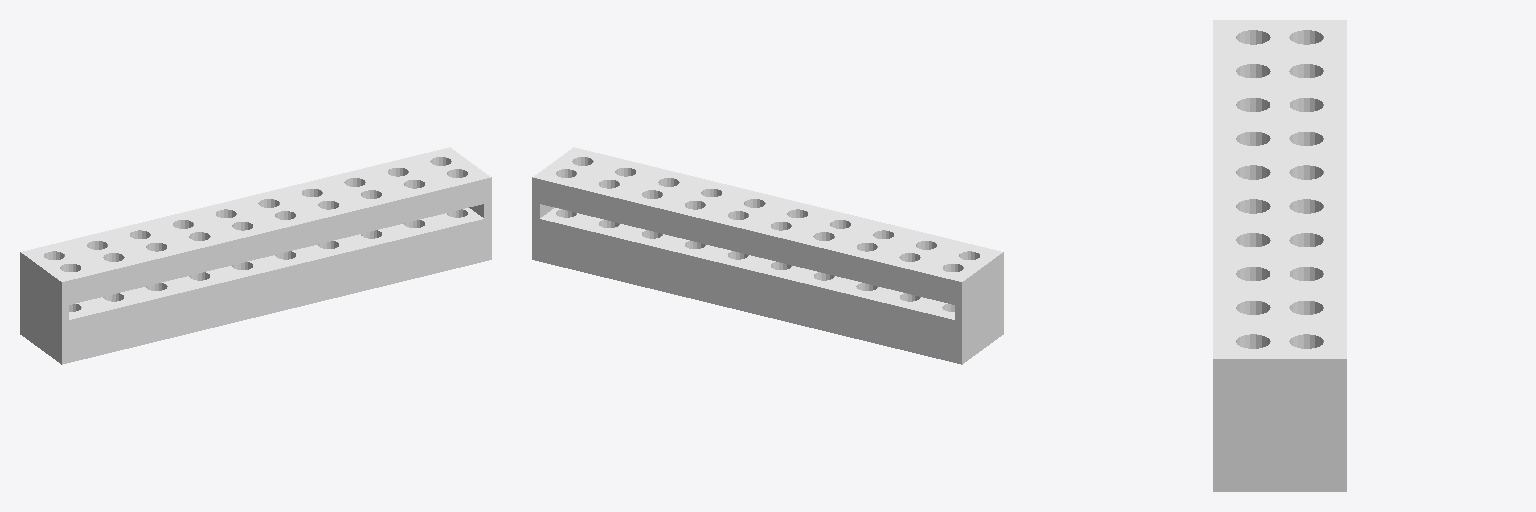
URDF robot description (Jiazi_urdf):
<?xml version="1.0" encoding="utf-8"?>

<robot
  name="Jiazi_urdf">
  <link
    name="base_link">
    <inertial>
      <origin
        xyz="-7.80625564189563E-18 0 0.0252583843509668"
        rpy="0 0 0" />
      <mass
        value="0.587087397270082" />
      <inertia
        ixx="0.000307919478763126"
        ixy="3.37593087498204E-20"
        ixz="4.83879572590194E-20"
        iyy="0.00465695966376648"
        iyz="-2.29493682128789E-20"
        izz="0.00461182821905803" />
    </inertial>
    <visual>
      <origin
        xyz="0 0 0"
        rpy="0 0 0" />
      <geometry>
        <mesh
          filename="package://Jiazi_urdf/meshes/base_link.STL" />
      </geometry>
      <material
        name="">
        <color
          rgba="1 1 1 1" />
      </material>
    </visual>
    <collision>
      <origin
        xyz="0 0 0"
        rpy="0 0 0" />
      <geometry>
        <mesh
          filename="package://Jiazi_urdf/meshes/base_link.STL" />
      </geometry>
    </collision>
  </link>

    <gazebo reference="base_link">
        <material>Gazebo/urGrey</material>
    </gazebo>

</robot>

--- What the picture shows (computed from the rendered views, not written in the file) ---
Views: 3 orthographic renders of the robot side by side, from view 1: azimuth 30°, elevation 25°; view 2: azimuth 150°, elevation 25°; view 3: azimuth 270°, elevation 25°.
Robot: Jiazi_urdf — 1 links, 0 joints (none); root link base_link; default pose: every joint at zero.
Visible links, largest first — view 1: base_link; view 2: base_link; view 3: base_link.
Link boxes in pixels (bbox=[...]): base_link: bbox=[20, 147, 491, 364]; base_link: bbox=[532, 147, 1003, 364]; base_link: bbox=[1213, 20, 1346, 491].
Bounding box of the posed robot: 0.3 × 0.05 × 0.055 m (x, y, z).
1 mesh visuals loaded from 1 distinct referenced files (1 binary STL).
